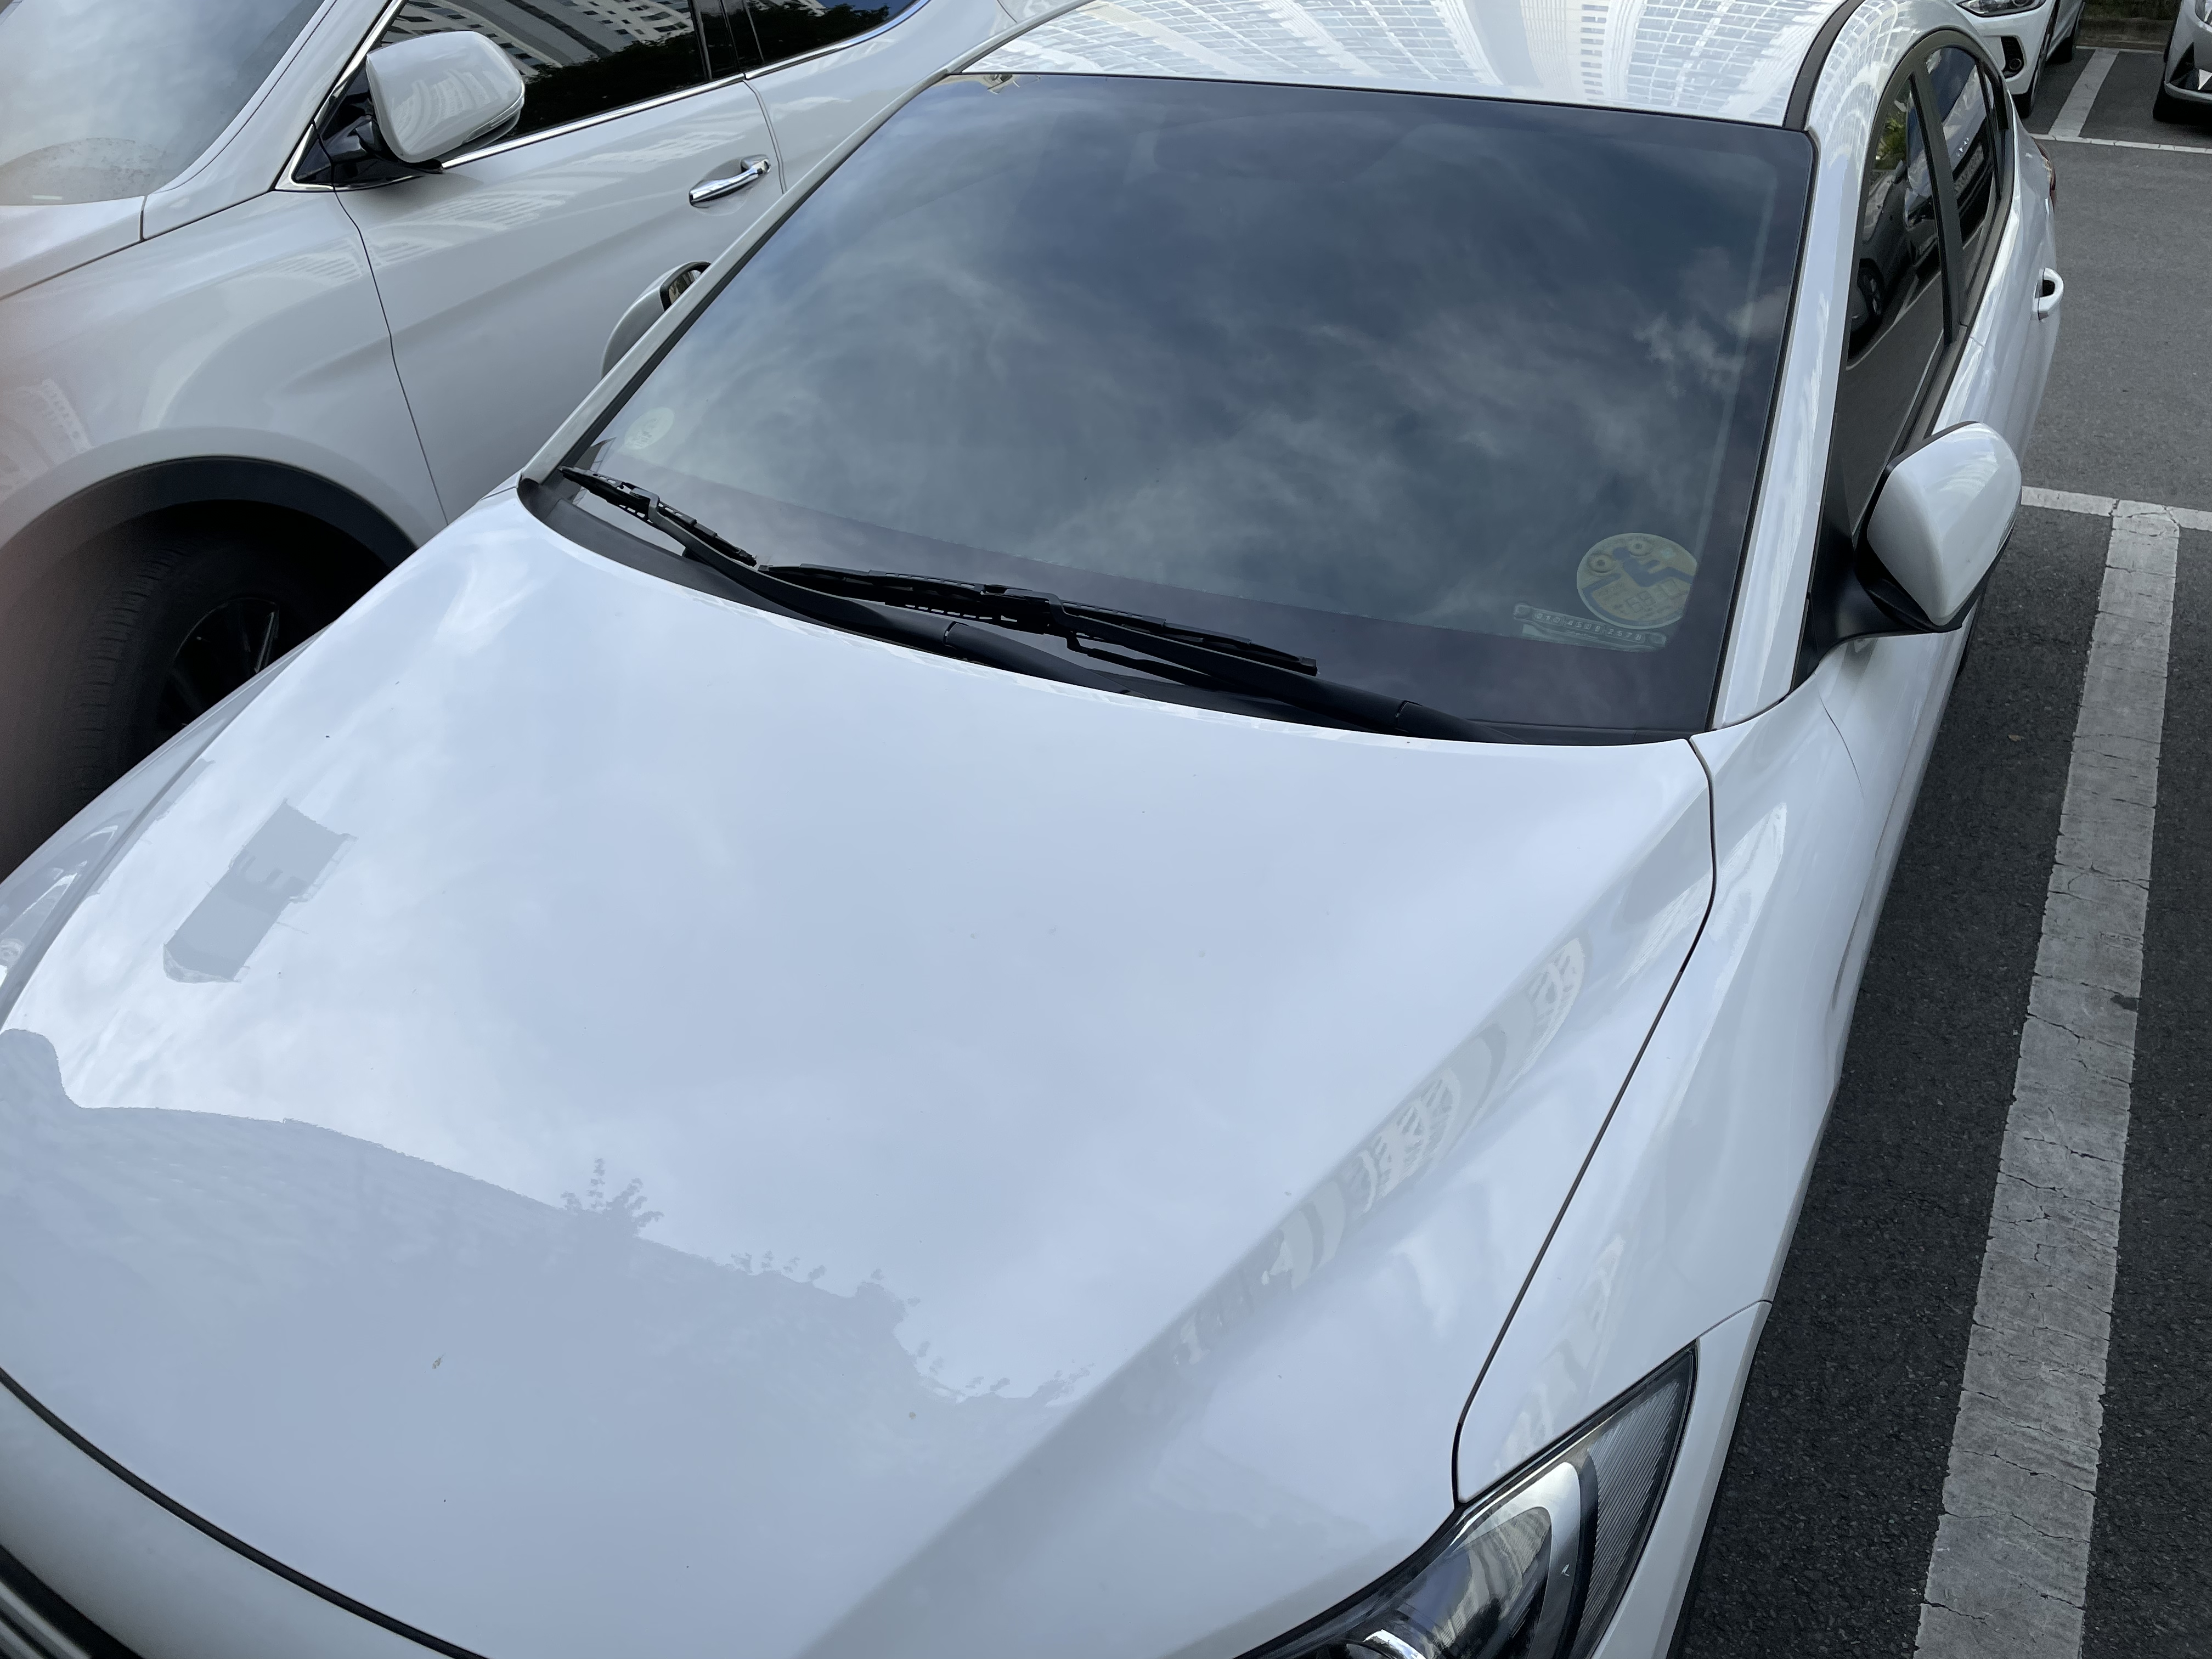apart_parking: (618, 408, 691, 448)
disabled_parking: (1566, 518, 1709, 636)
